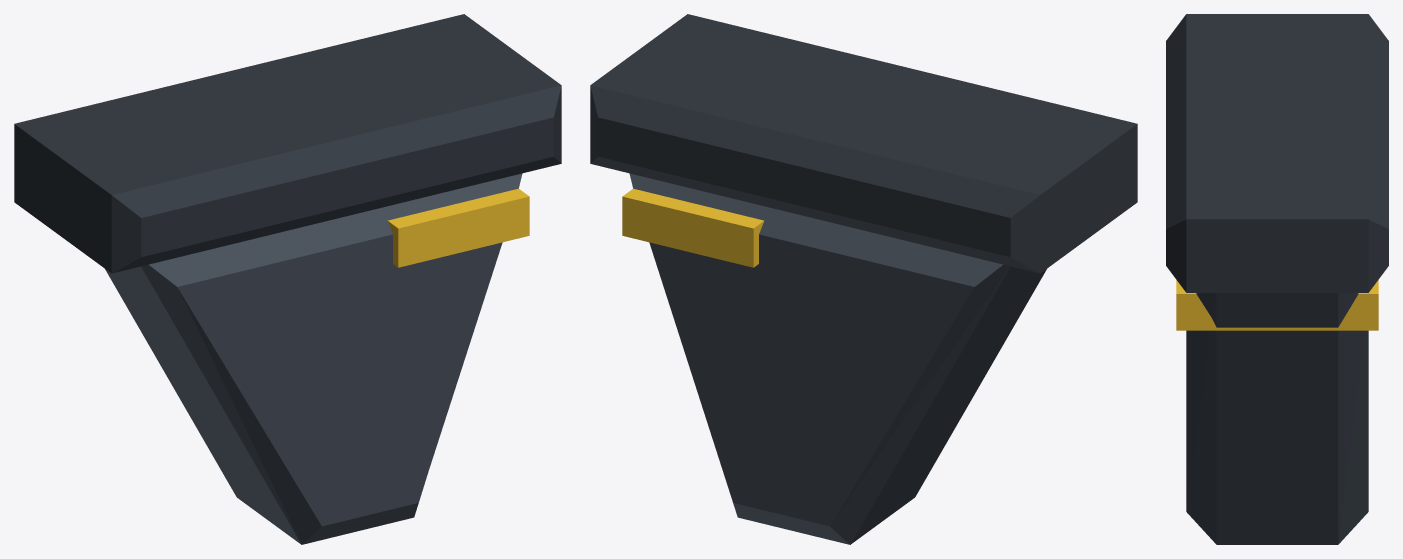
Rendered from grip_handstop.glb.
3 views of the same model, side by side, from view 1: azimuth 30°, elevation 25°; view 2: azimuth 150°, elevation 25°; view 3: azimuth 270°, elevation 25° (orthographic). The views are drawn at different scales.
Parts seen in each view (by area): view 1: grip_handstop; view 2: grip_handstop; view 3: grip_handstop.
Boxes of the visible parts, x1=… form: grip_handstop: x1=14, y1=14, x2=561, y2=544; grip_handstop: x1=590, y1=14, x2=1137, y2=544; grip_handstop: x1=1166, y1=14, x2=1388, y2=544.
Bounding box in the file's own units: 0.048 × 0.042 × 0.022.
